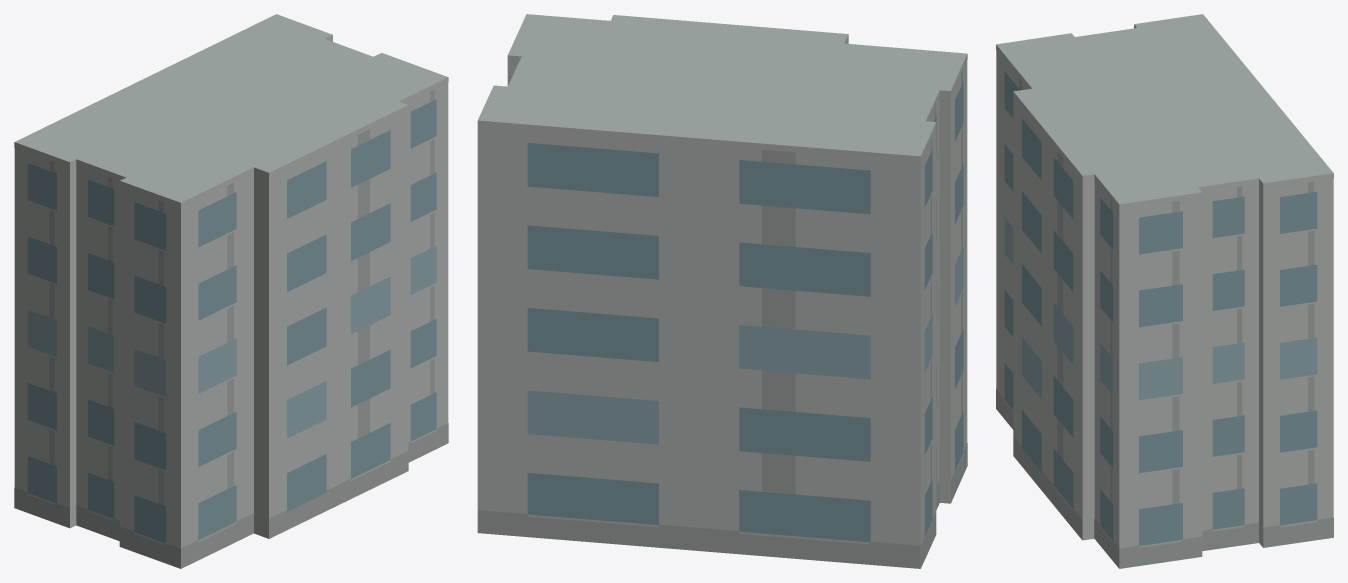
The model's file is survey-upis-32787899.glb.
The picture shows the model from 3 angles, left to right: view 1: azimuth 30°, elevation 25°; view 2: azimuth 150°, elevation 25°; view 3: azimuth 270°, elevation 25°; orthographic projection. The views are drawn at different scales.
Visible parts, largest first — view 1: survey-upis-32787899.tmp; view 2: survey-upis-32787899.tmp; view 3: survey-upis-32787899.tmp.
Boxes of the visible parts, x1=… form: survey-upis-32787899.tmp: x1=14, y1=14, x2=448, y2=568; survey-upis-32787899.tmp: x1=477, y1=14, x2=967, y2=568; survey-upis-32787899.tmp: x1=996, y1=14, x2=1333, y2=568.
Size of the model in its own units: 17.82 by 15.9 by 13.36.
